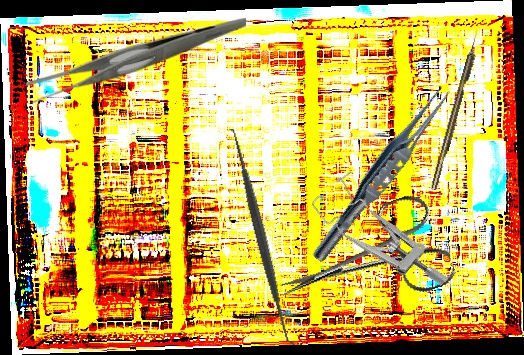Dressing Forceps: (26, 17, 246, 104)
Hook Surgical: (429, 29, 483, 191)
Iris Scissors: (265, 188, 459, 339)
Spatula Surgical: (221, 124, 302, 350)
Speculum: (309, 162, 450, 318)
Tissue Forceps: (307, 79, 457, 269)
